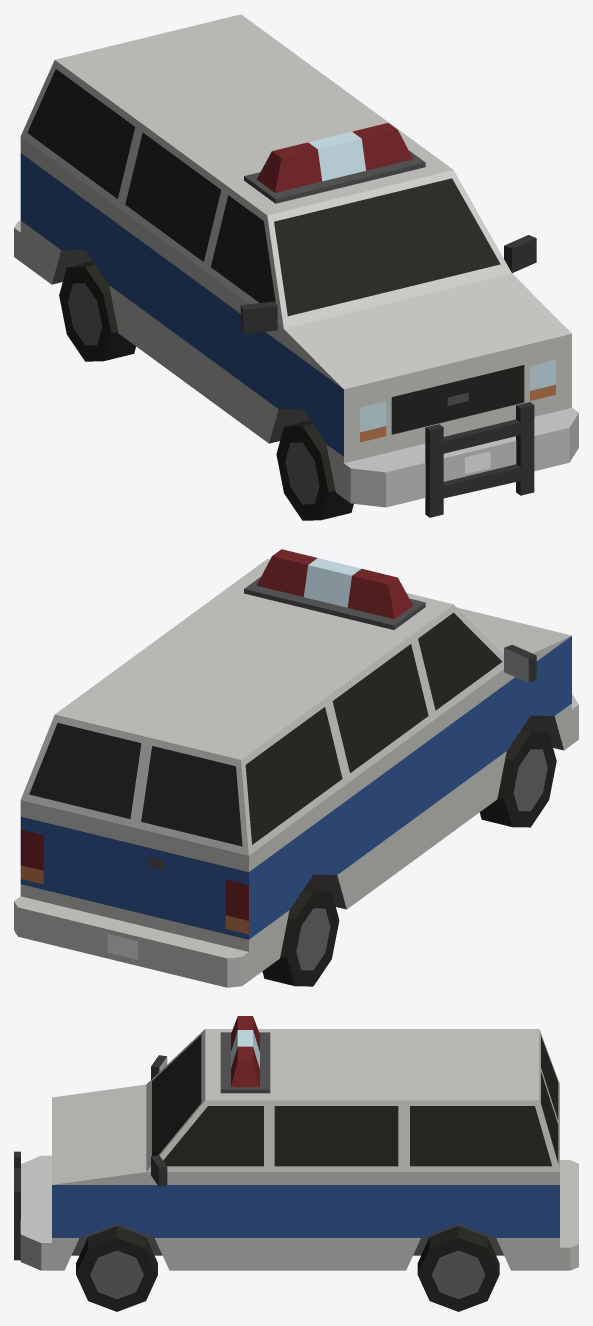
The model's file is Veh_Police_Van.obj.
3 renders of one model, top to bottom at view 1: azimuth 30°, elevation 25°; view 2: azimuth 150°, elevation 25°; view 3: azimuth 270°, elevation 25°, orthographic. The views are drawn at different scales.
Bounding box in the file's own units: 1.38 × 1.31 × 2.93.
